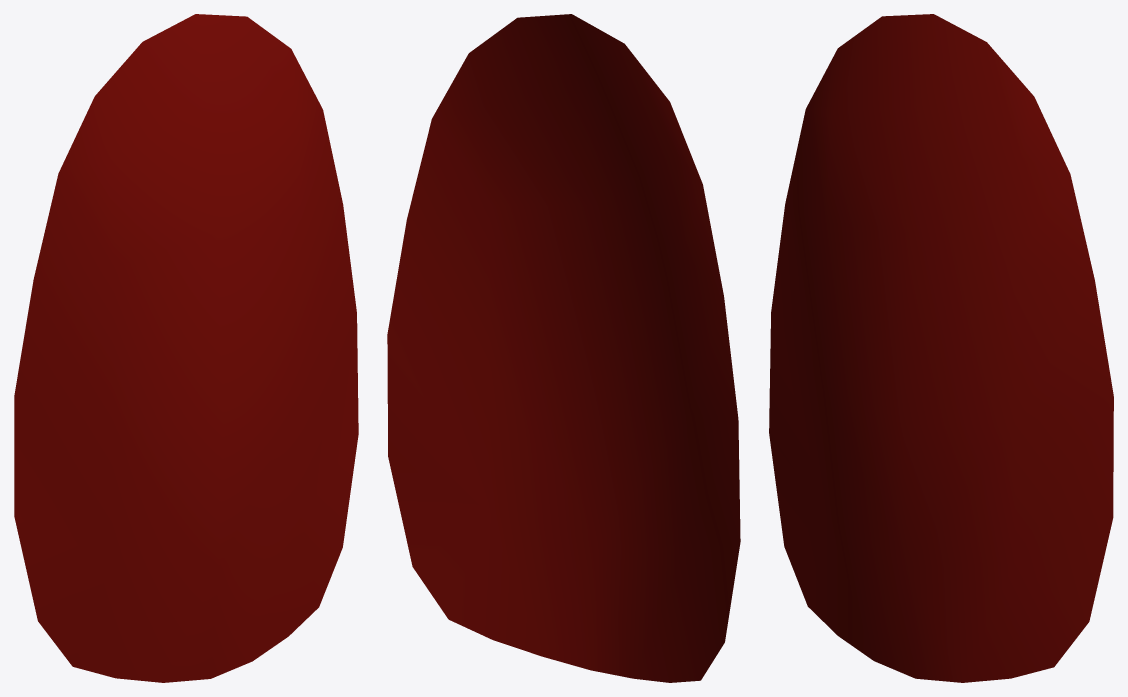
The model's file is MD_nail_natural_HandR.Middle.fbx.
3 renders of one model, left to right at view 1: azimuth 30°, elevation 25°; view 2: azimuth 150°, elevation 25°; view 3: azimuth 330°, elevation 25°, orthographic. The views are drawn at different scales.
Parts seen in each view (by area): view 1: MD_nail_natural_HandR.Middle; view 2: MD_nail_natural_HandR.Middle; view 3: MD_nail_natural_HandR.Middle.
Boxes of the visible parts, x1,y1,x2,y2 form: MD_nail_natural_HandR.Middle: [14, 14, 358, 682]; MD_nail_natural_HandR.Middle: [387, 14, 740, 682]; MD_nail_natural_HandR.Middle: [769, 14, 1113, 682].
Bounding box in the file's own units: 0.7282 × 1.32 × 0.1414.
